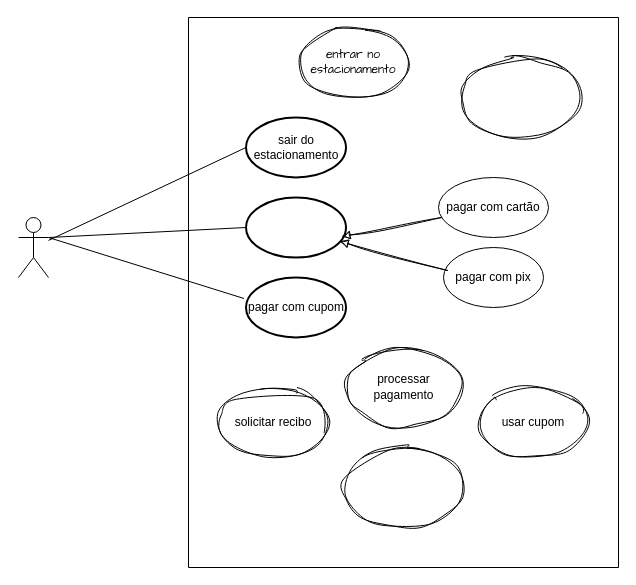
The diagram is 636 pixels wide and 585 high, and some of its shapes have lost their labels. The centre of each missing label's shape, as x and y in pixels:
"pagar estacionamento" goes at pixel 295 227.
"Sarah" goes at pixel 33 247.
